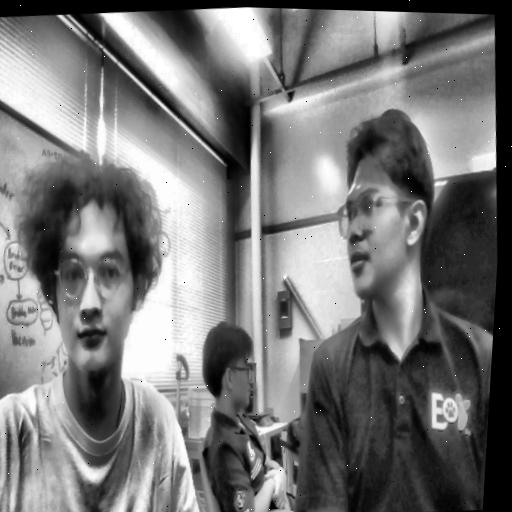Daifuku: (5, 142, 183, 389)
Not Daifuku: (199, 316, 258, 410)
